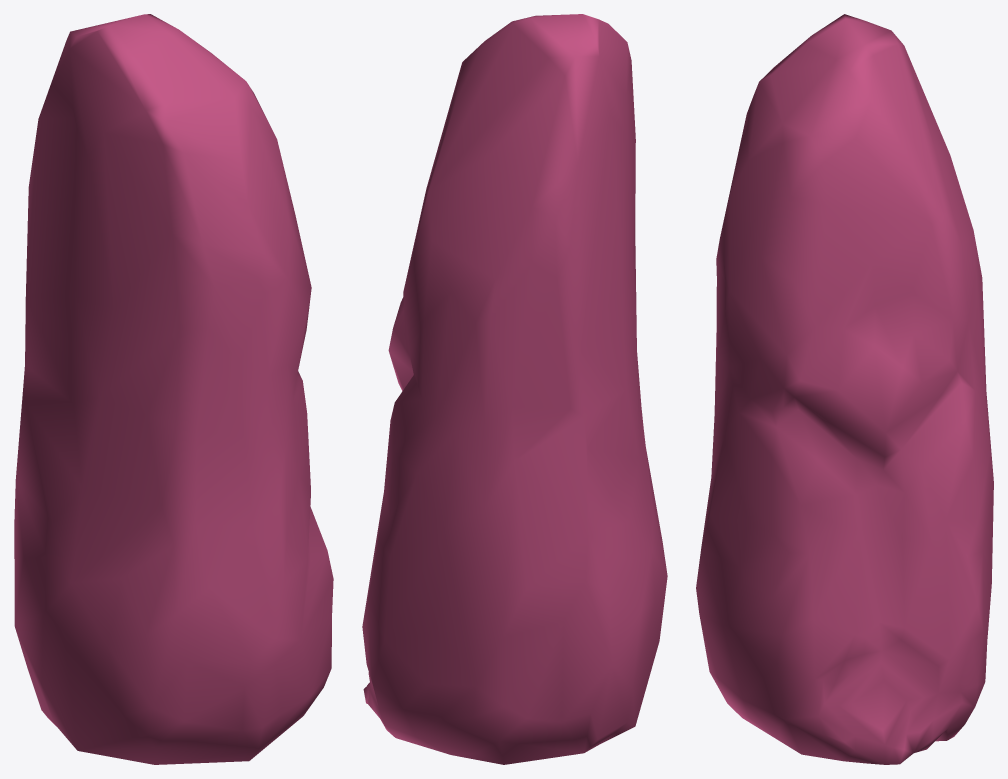
The model's file is arena_Menhir_03.fbx.
3 renders of one model, left to right at view 1: azimuth 30°, elevation 25°; view 2: azimuth 150°, elevation 25°; view 3: azimuth 270°, elevation 25°, orthographic. The views are drawn at different scales.
Visible parts, largest first — view 1: Menhir_03; view 2: Menhir_03; view 3: Menhir_03.
Part boxes in pixels (left/top/right/bottom): Menhir_03: left=14, top=14, right=333, bottom=764; Menhir_03: left=362, top=14, right=667, bottom=764; Menhir_03: left=696, top=14, right=993, bottom=764.
Size of the model in its own units: 298 by 782 by 319.
